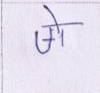e_matra: (44, 4, 61, 24)
